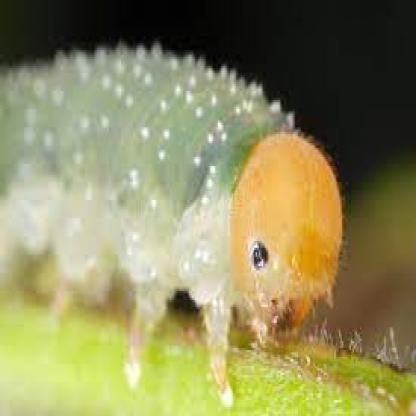sawfly: (1, 44, 350, 402)
